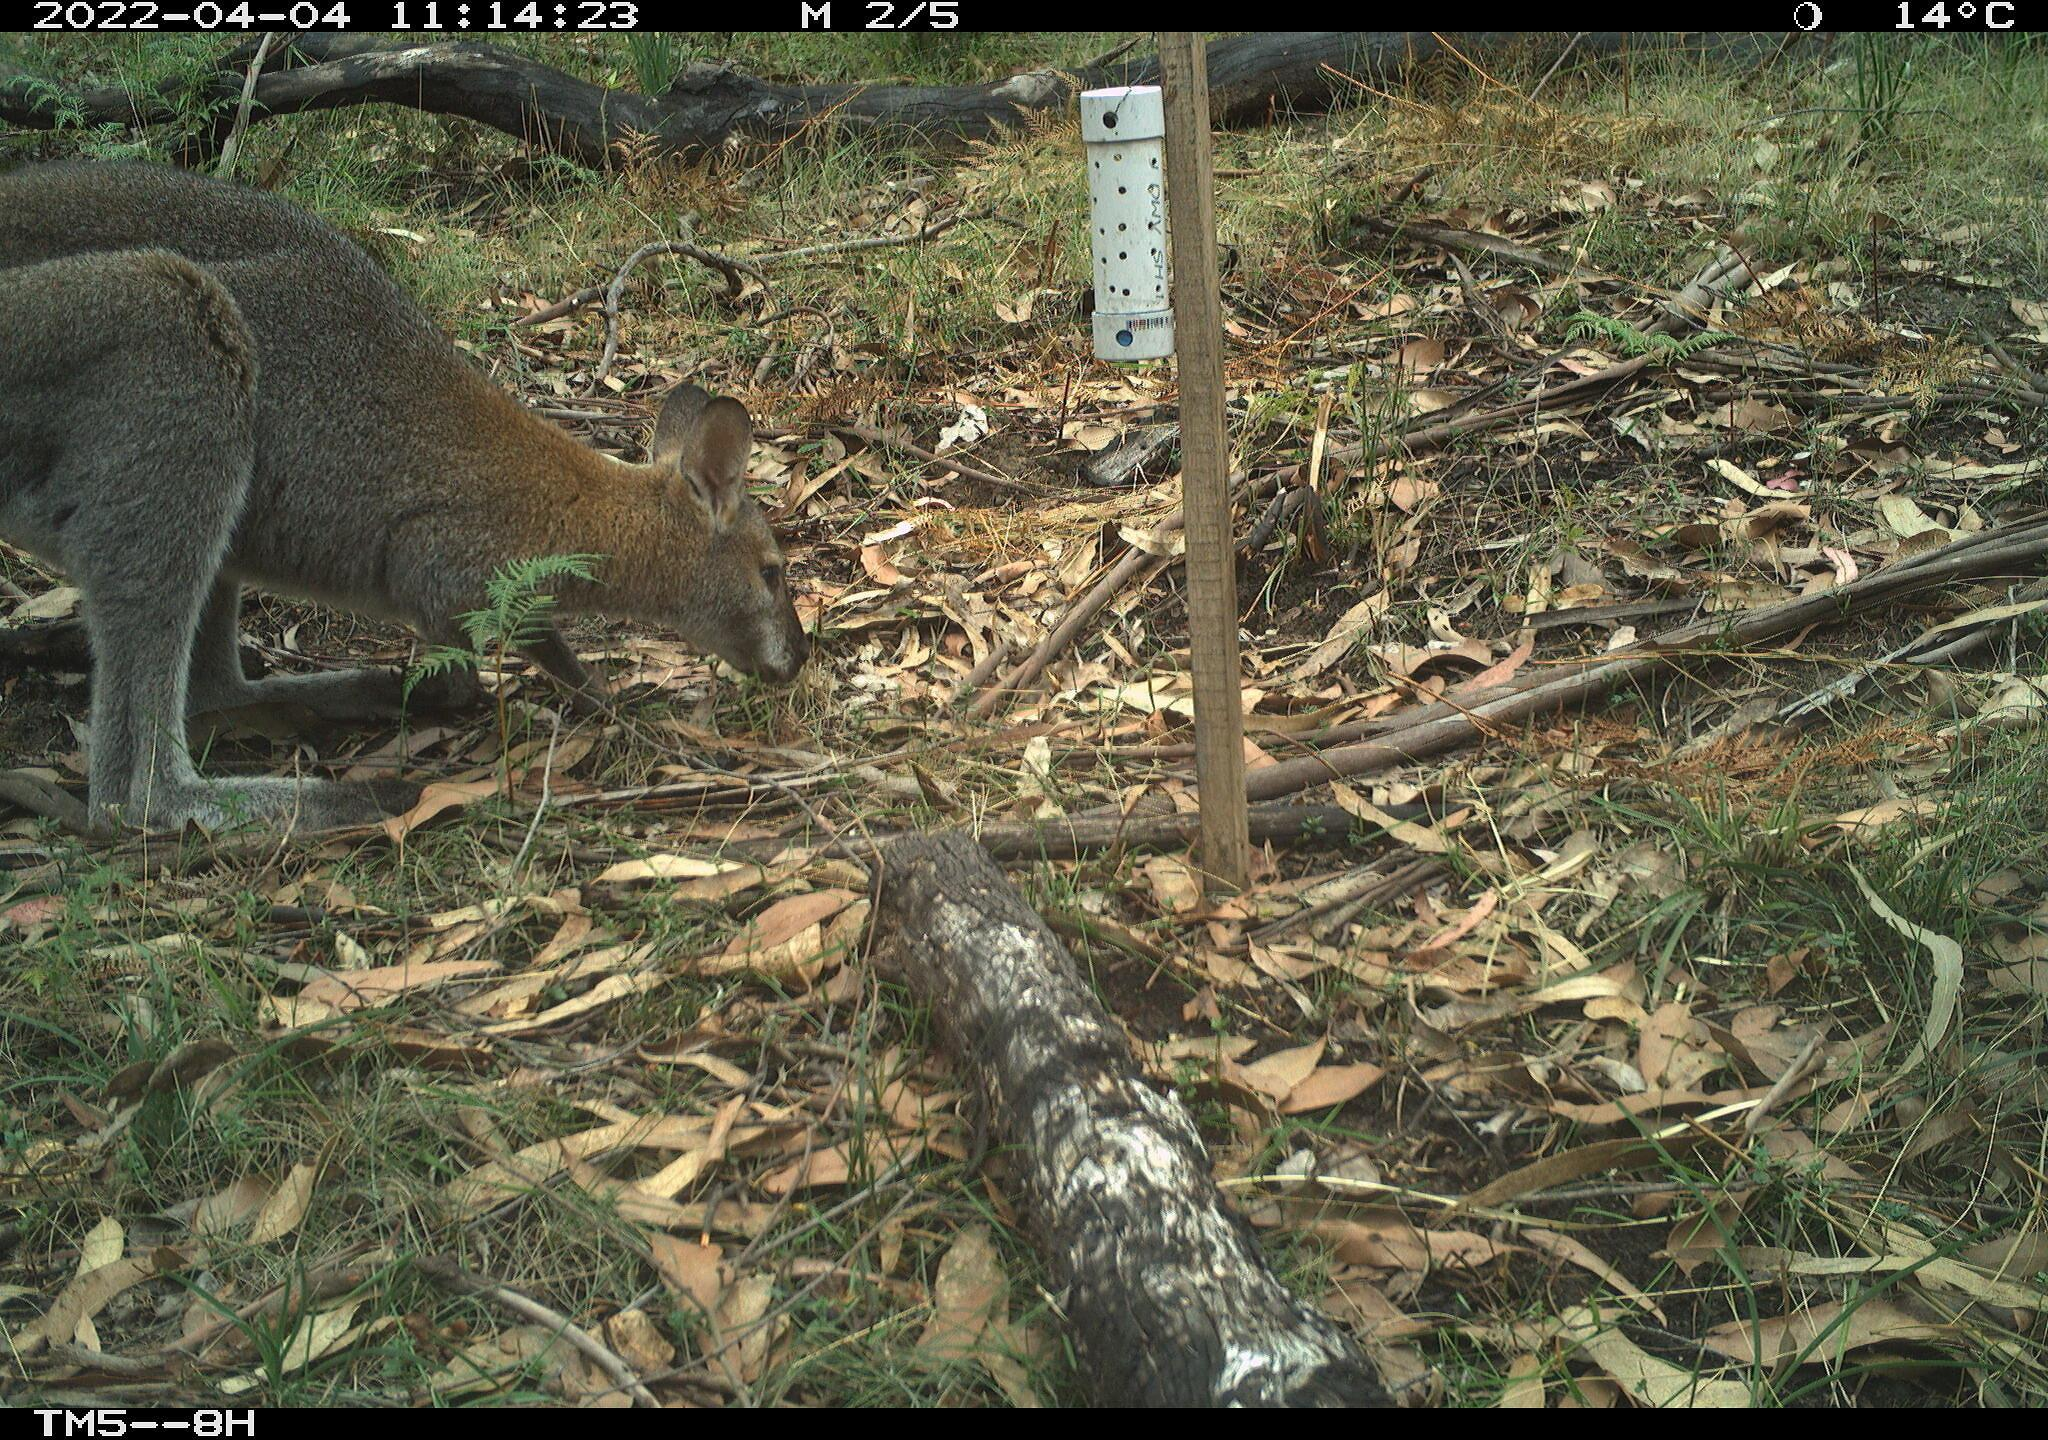Red-necked wallaby: (0, 148, 820, 849)
